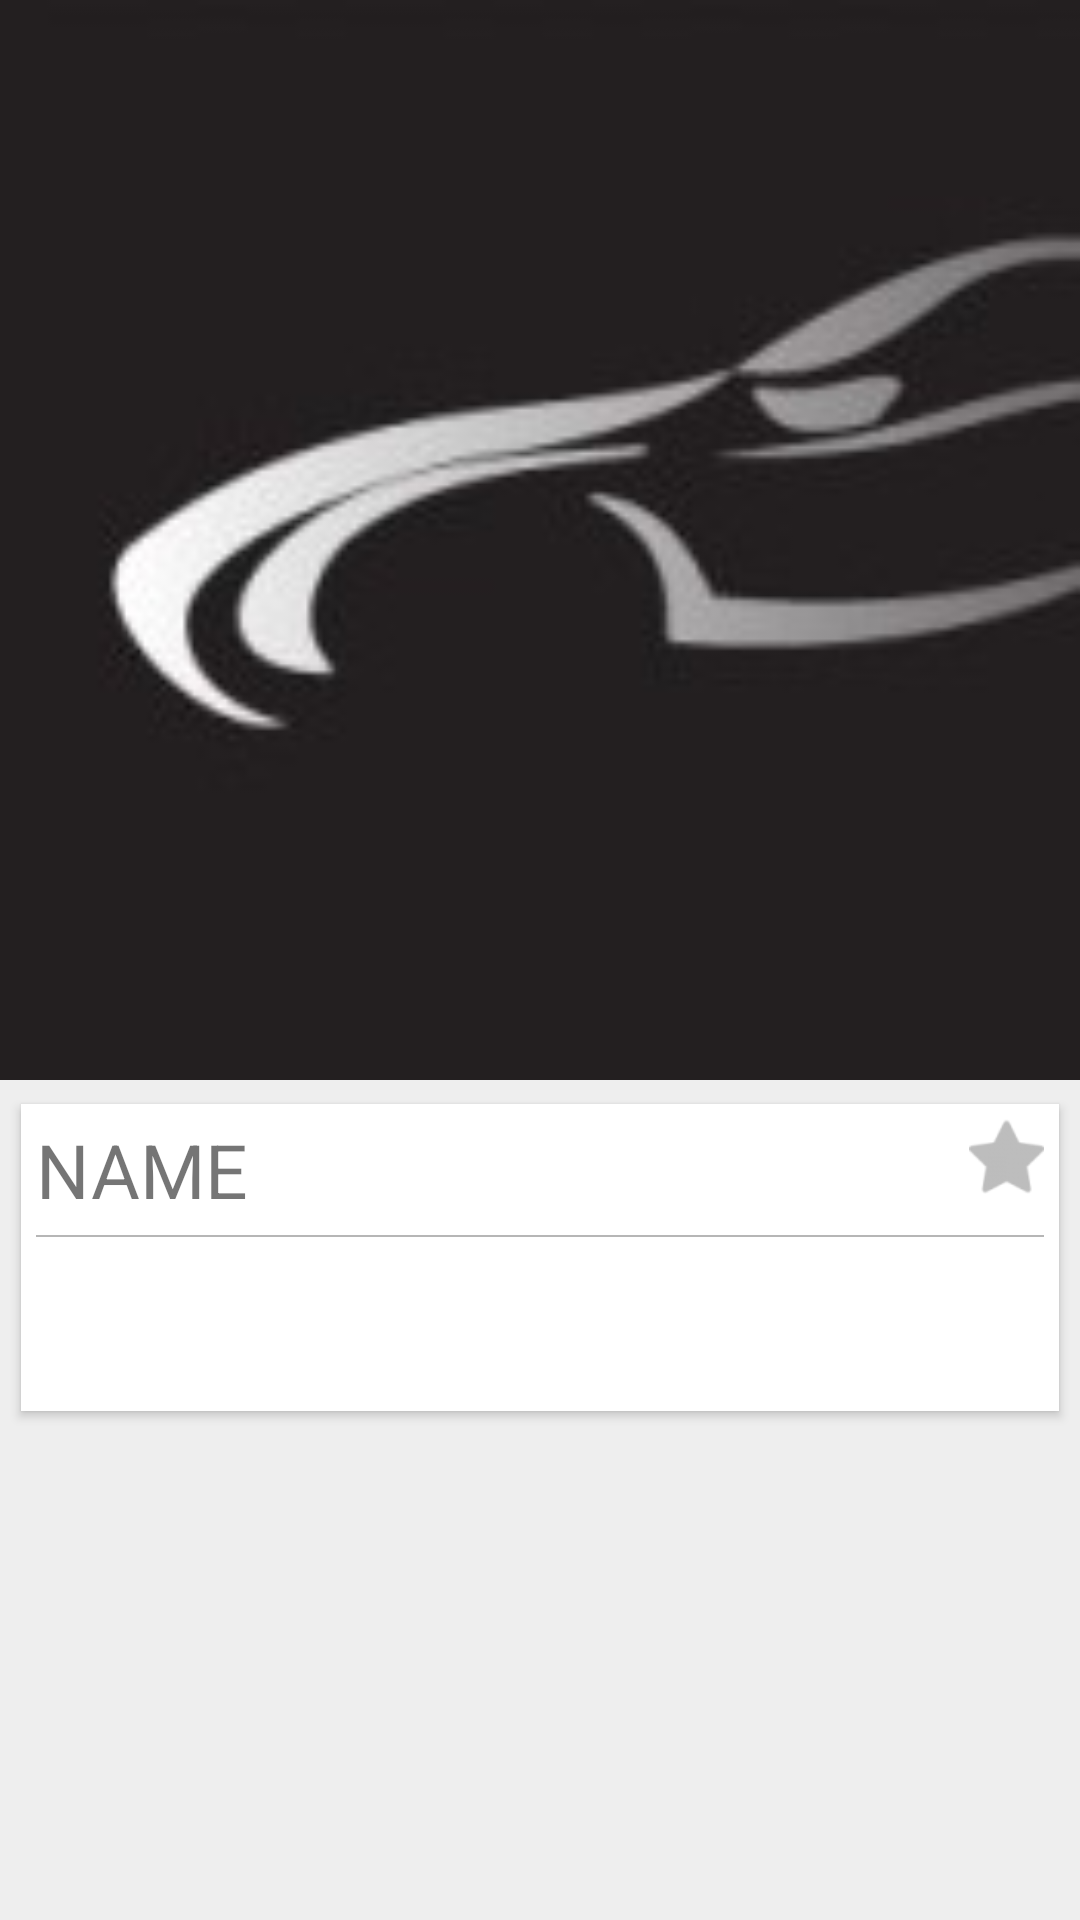

Point at icon controls on the screen. Image size 1080 × 1920, points as (x=x, y=y).
star silver: (x=1006, y=1157)
